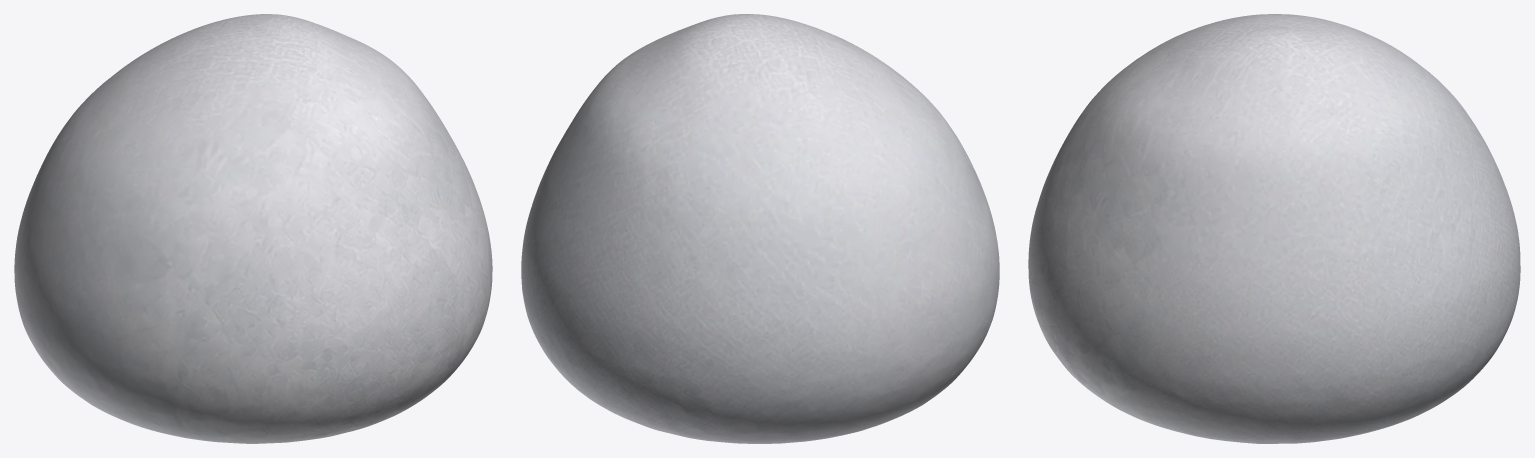
Rendered from stone.glb.
The picture shows the model from 3 angles, left to right: view 1: azimuth 30°, elevation 25°; view 2: azimuth 150°, elevation 25°; view 3: azimuth 270°, elevation 25°; orthographic projection. The views are drawn at different scales.
Bounding box in the file's own units: 1.9 × 1.48 × 1.9.
Materials: 1 (1 with a texture image).
